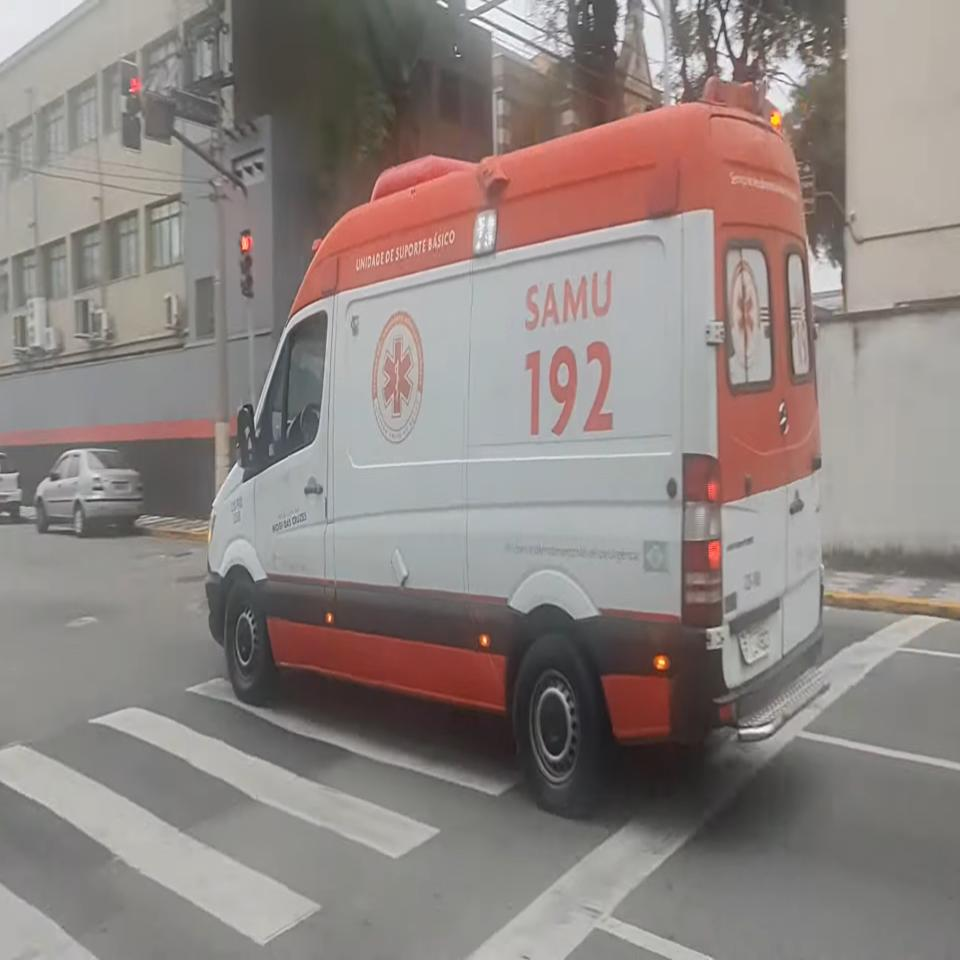bombeiro: (199, 83, 836, 817)
